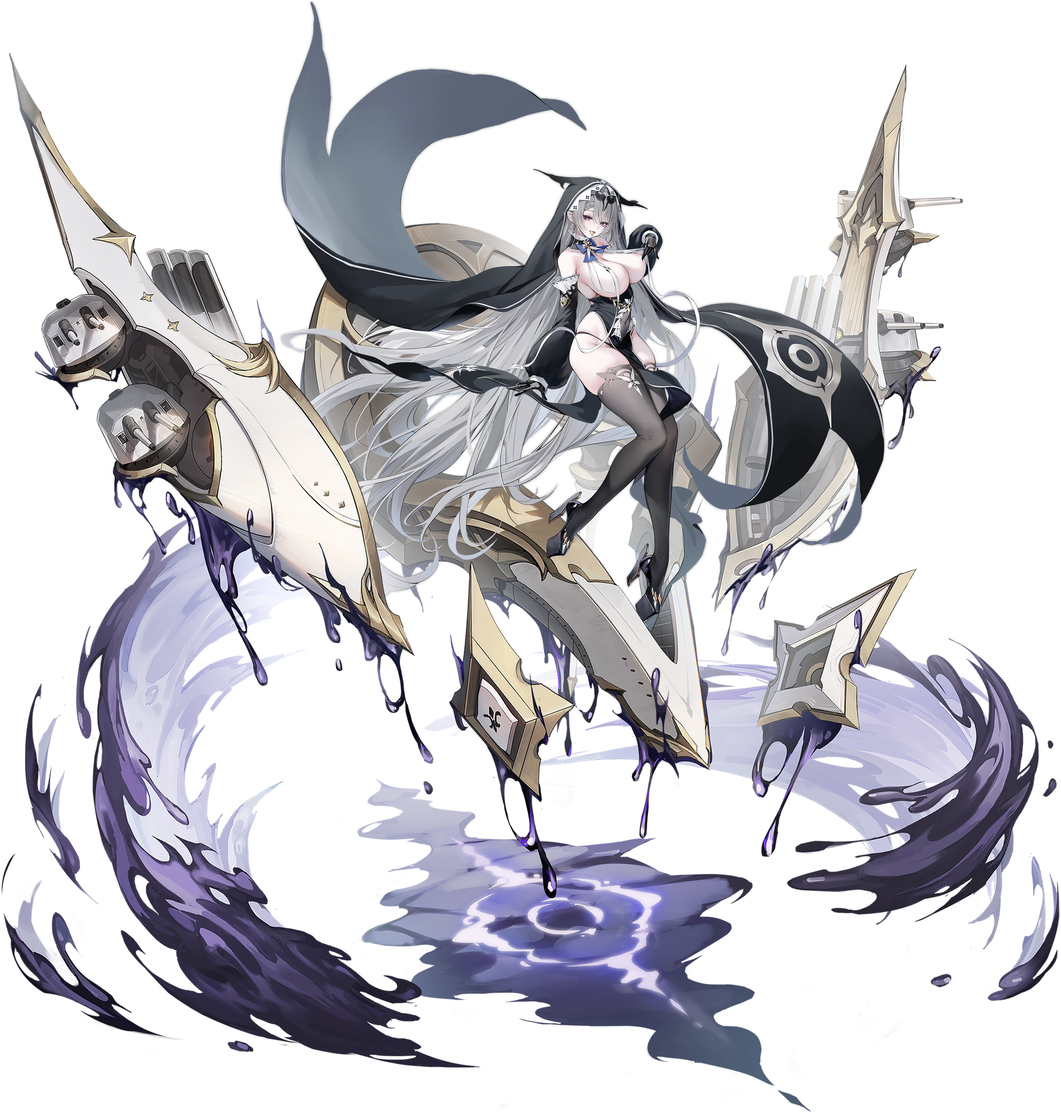person: (410, 134, 794, 947)
